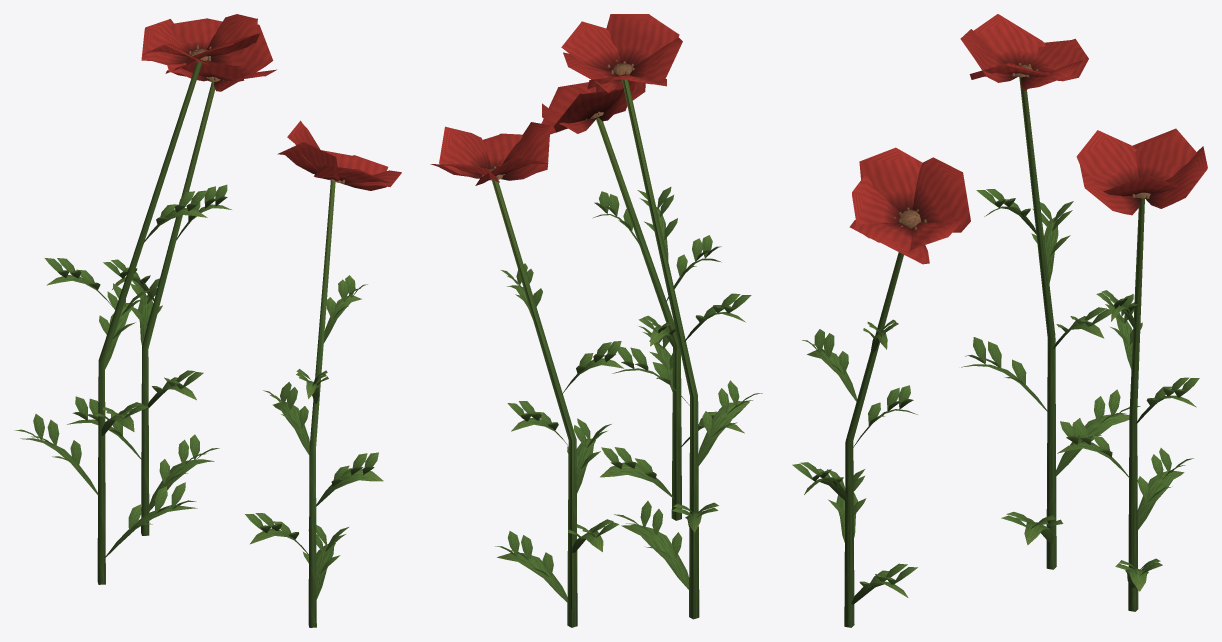
File: FieldPoppy_A.fbx
3 views of the same model, side by side, from view 1: azimuth 30°, elevation 25°; view 2: azimuth 150°, elevation 25°; view 3: azimuth 270°, elevation 25° (orthographic). The views are drawn at different scales.
Visible parts, largest first — view 1: FieldPoppy_A_LOD0; view 2: FieldPoppy_A_LOD0; view 3: FieldPoppy_A_LOD0.
Boxes of the visible parts, box(x1,y1,x2,y2) form: FieldPoppy_A_LOD0: box(14, 14, 401, 627); FieldPoppy_A_LOD0: box(430, 14, 762, 627); FieldPoppy_A_LOD0: box(792, 14, 1207, 627).
Size of what is drawn, in the model's own units: 16.4 by 31.31 by 20.54.
1 material, 1 textured.
